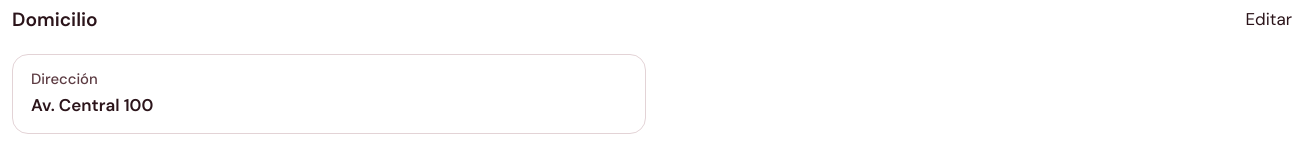
Test: DataSection: scroll accesible al editar › no desplaza si la seccion ya cabe completa en la vista
What coordinates should you click on to do the following:
click the button with aria-label "Editar domicilio"
I would click on:
 (1269, 20)
Its box is [1246,7,1292,33].
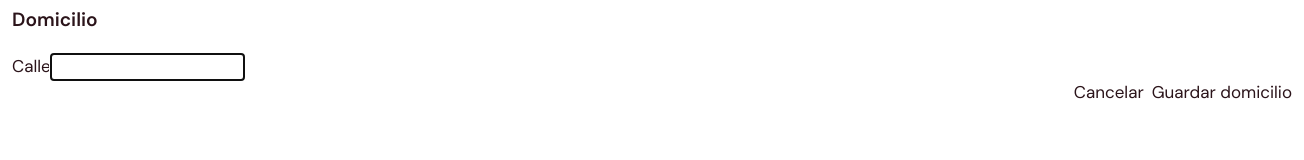
Expected: the field labelled "Calle" is shown, [51,54,244,80]
